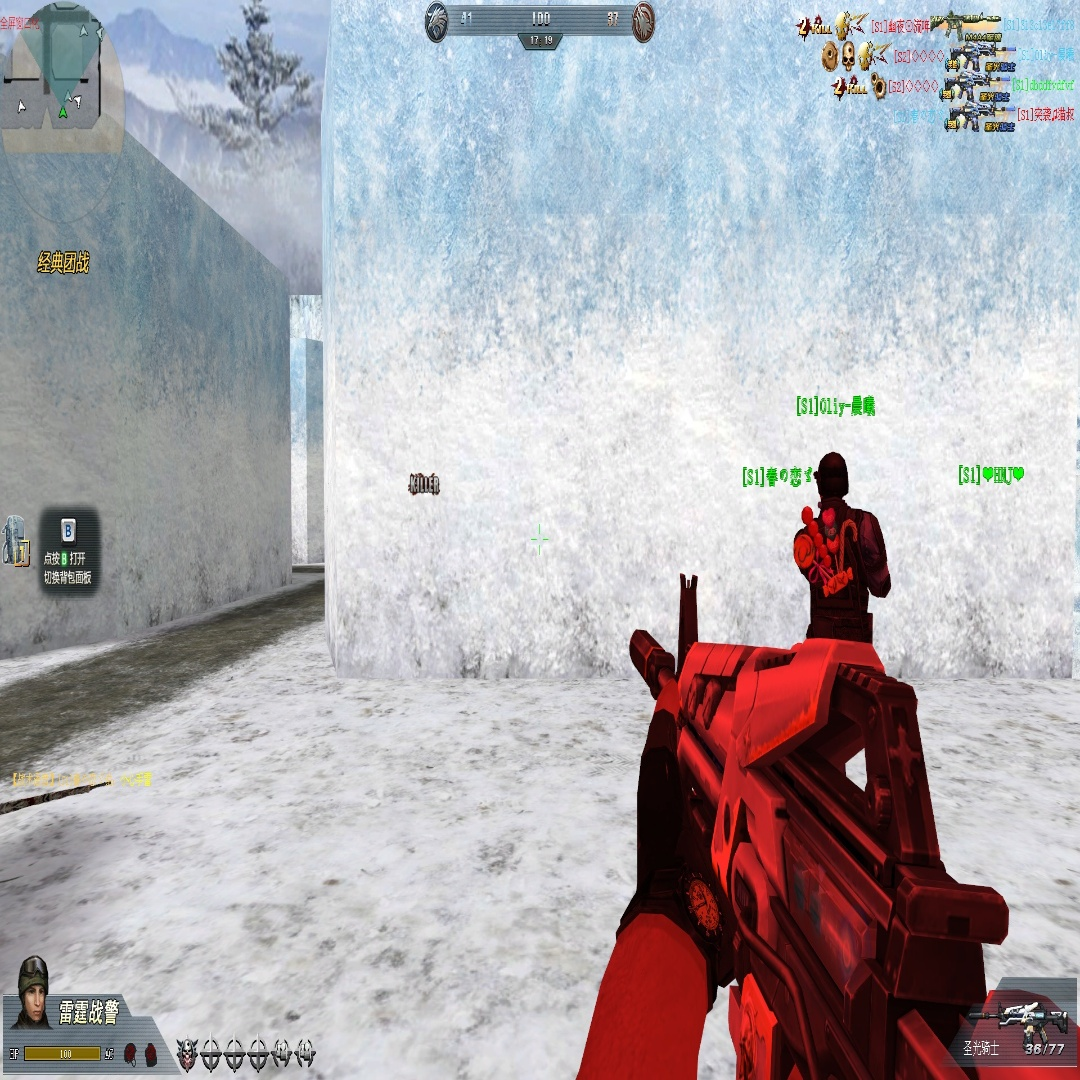ct: (793, 450, 891, 642)
